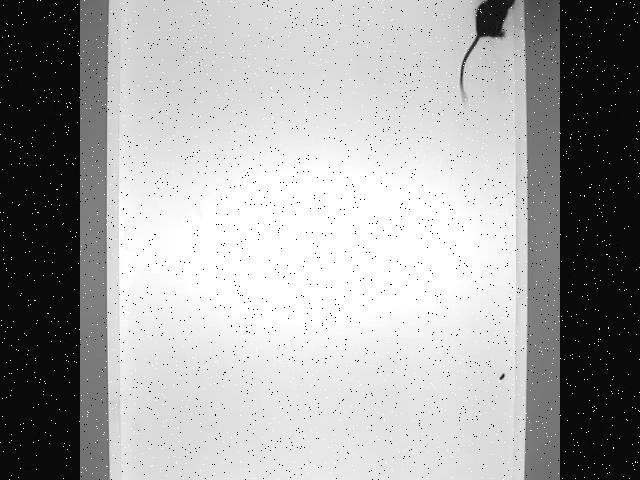Tikus: (460, 0, 519, 102)
